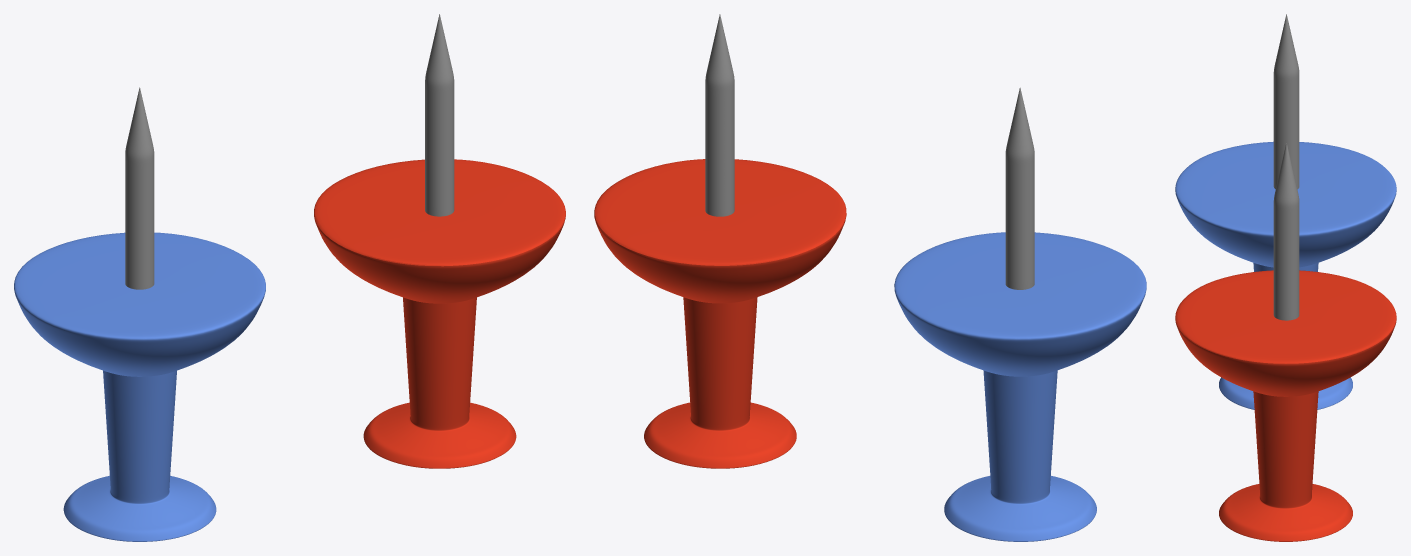
The model's file is jarum mading.fbx.
The picture shows the model from 3 angles, left to right: view 1: azimuth 30°, elevation 25°; view 2: azimuth 150°, elevation 25°; view 3: azimuth 270°, elevation 25°; orthographic projection. The views are drawn at different scales.
Parts seen in each view (by area): view 1: jarum mading, Cylinder.002, Cylinder.003; view 2: jarum mading, Cylinder.002, Cylinder.003; view 3: jarum mading, Cylinder.002, Cylinder.003.
Boxes of the visible parts, x1,y1,x2,y2 form: jarum mading: (314,14,565,468); Cylinder.002: (14,232,265,541); Cylinder.003: (125,87,154,289); jarum mading: (594,14,846,468); Cylinder.002: (894,232,1146,541); Cylinder.003: (1005,87,1034,289); jarum mading: (1175,143,1396,541); Cylinder.002: (1175,141,1396,409); Cylinder.003: (1273,14,1299,189).
Size of the model in its own units: 1056 by 824 by 445.
